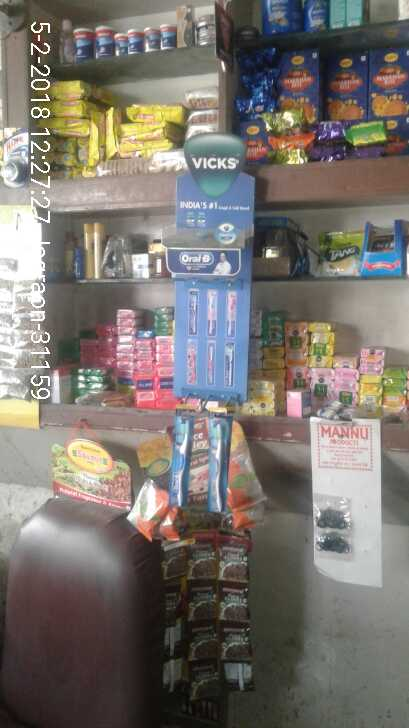oralb: (202, 419, 232, 514), (170, 414, 192, 513)
